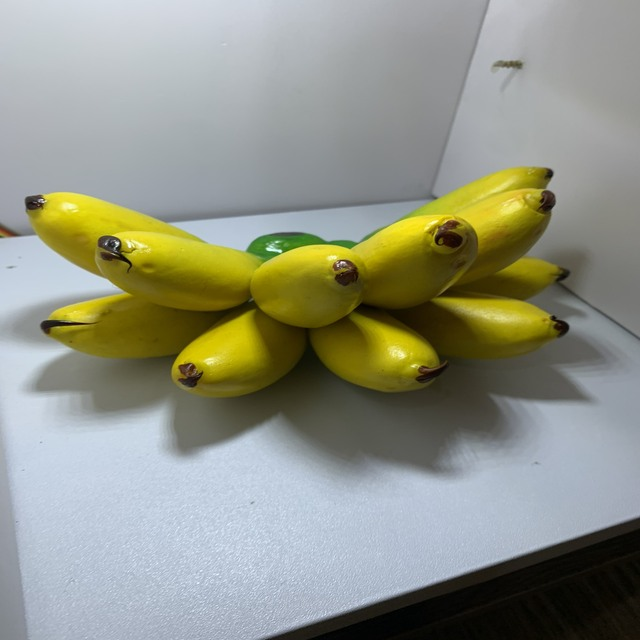Chuoi: (7, 137, 589, 426)
